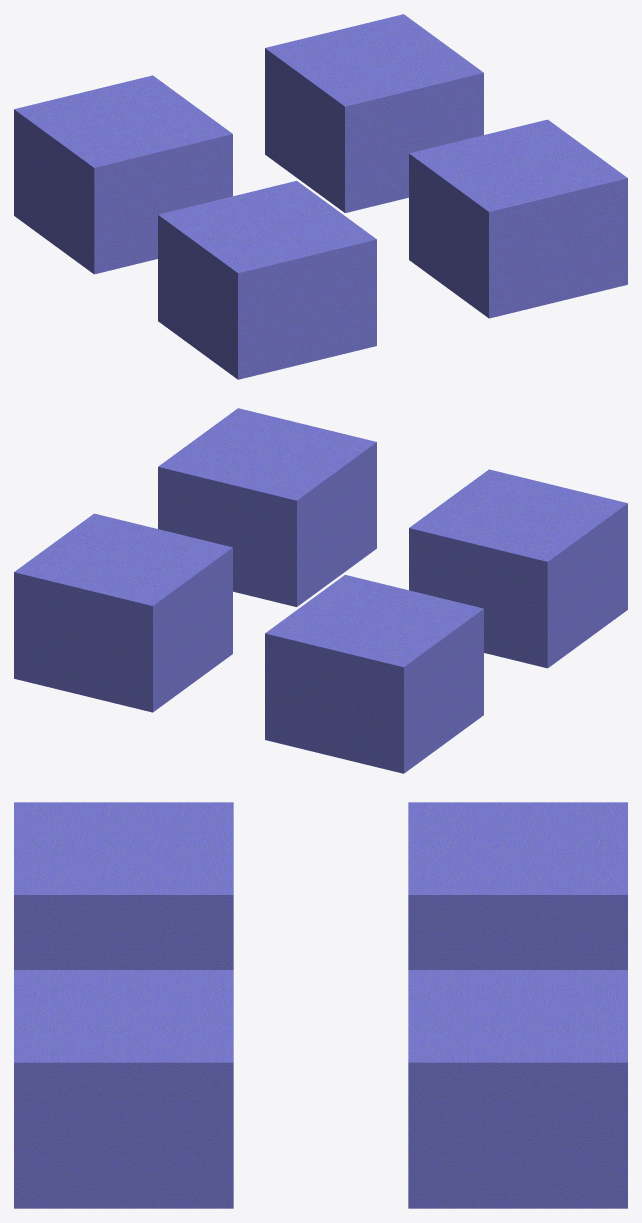
The model's file is City.dae.
3 views of the same model, one above another, from view 1: azimuth 30°, elevation 25°; view 2: azimuth 150°, elevation 25°; view 3: azimuth 270°, elevation 25° (orthographic). The views are drawn at different scales.
Visible parts, largest first — view 1: City; view 2: City; view 3: City.
Part boxes in pixels (x1=…): City: x1=14, y1=14, x2=627, y2=379; City: x1=14, y1=408, x2=627, y2=773; City: x1=14, y1=802, x2=627, y2=1208.
Size of the model in its own units: 140 by 36.65 by 140.
